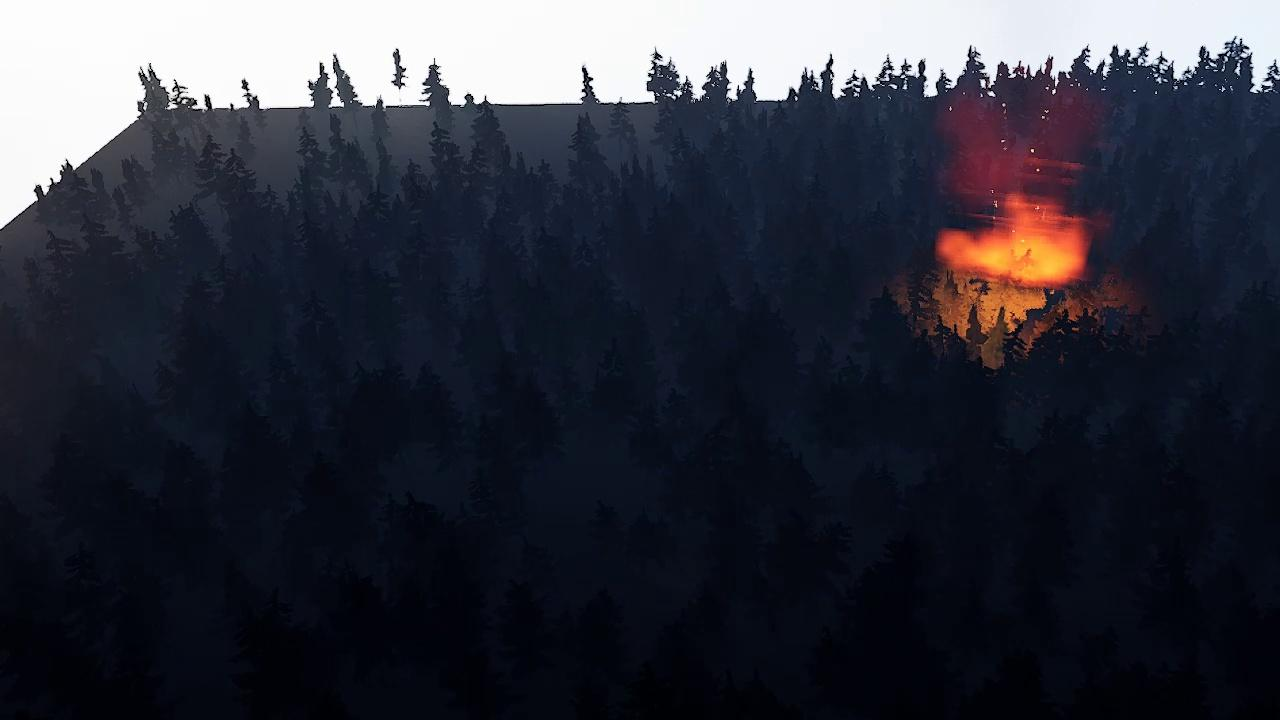fire: (938, 196, 1085, 287)
smoke: (930, 74, 1091, 201)
